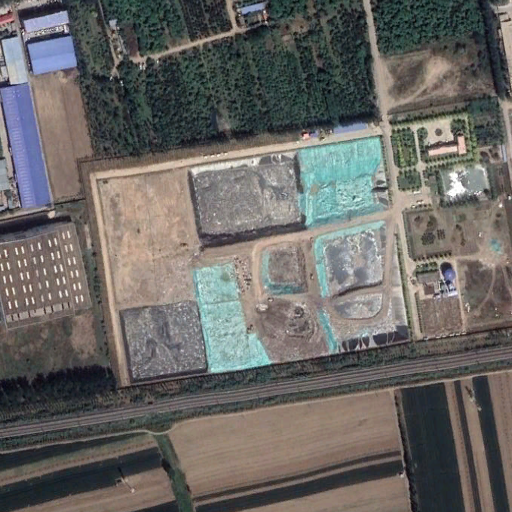lf: (97, 137, 415, 386)
